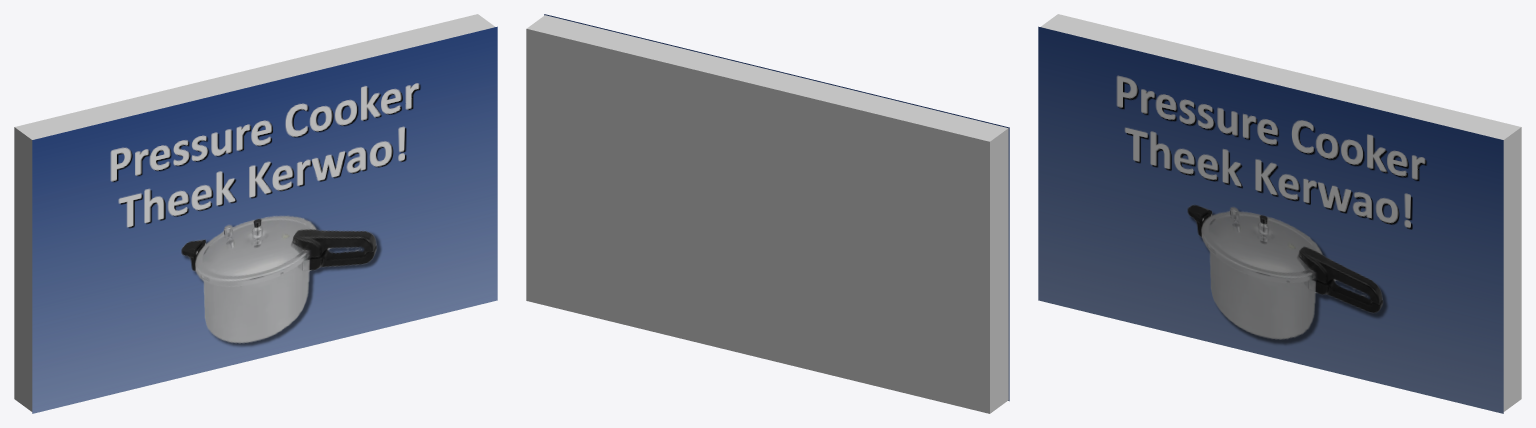
File: cooker.fbx
The picture shows the model from 3 angles, left to right: view 1: azimuth 30°, elevation 25°; view 2: azimuth 150°, elevation 25°; view 3: azimuth 330°, elevation 25°; orthographic projection.
Visible parts, largest first — view 1: cooker.001, cooker; view 2: cooker, cooker.001; view 3: cooker.001, cooker.
Boxes of the visible parts, box(x1,y1,x2,y2) form: cooker.001: box(32, 26, 497, 413); cooker: box(14, 14, 494, 411); cooker: box(526, 15, 1008, 413); cooker.001: box(544, 14, 1009, 401); cooker.001: box(1038, 26, 1503, 413); cooker: box(1041, 14, 1521, 411).
Bounding box in the file's own units: 178 × 100 × 12.4.
1 material, 1 textured.
